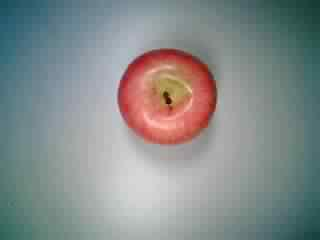apple: (115, 47, 218, 145)
